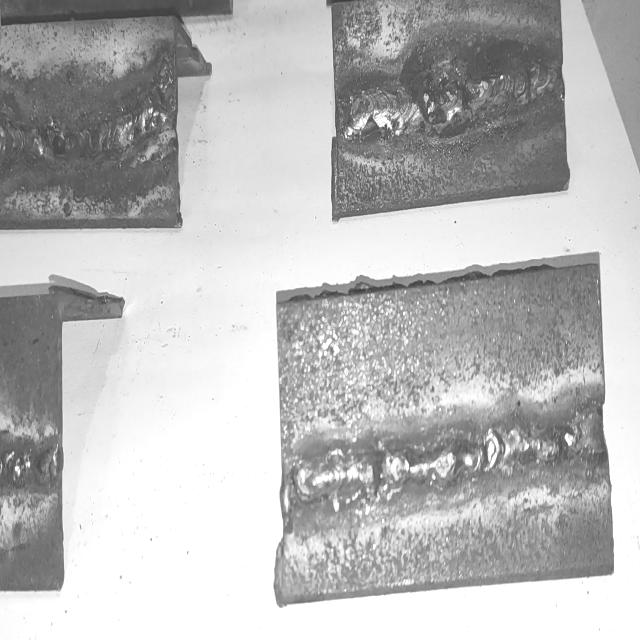Bad Weld: (286, 400, 601, 510), (341, 55, 556, 134), (2, 91, 170, 163)
Defect: (419, 21, 487, 145), (519, 388, 608, 473), (38, 106, 92, 174), (1, 439, 59, 487), (149, 54, 177, 128)
